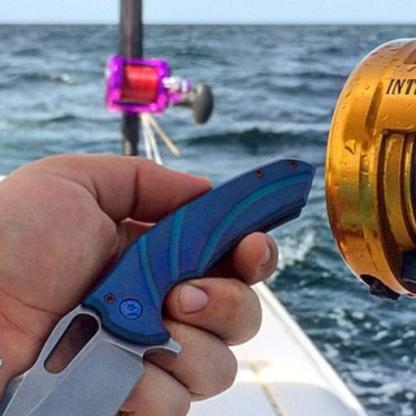knife: (0, 150, 323, 415)
